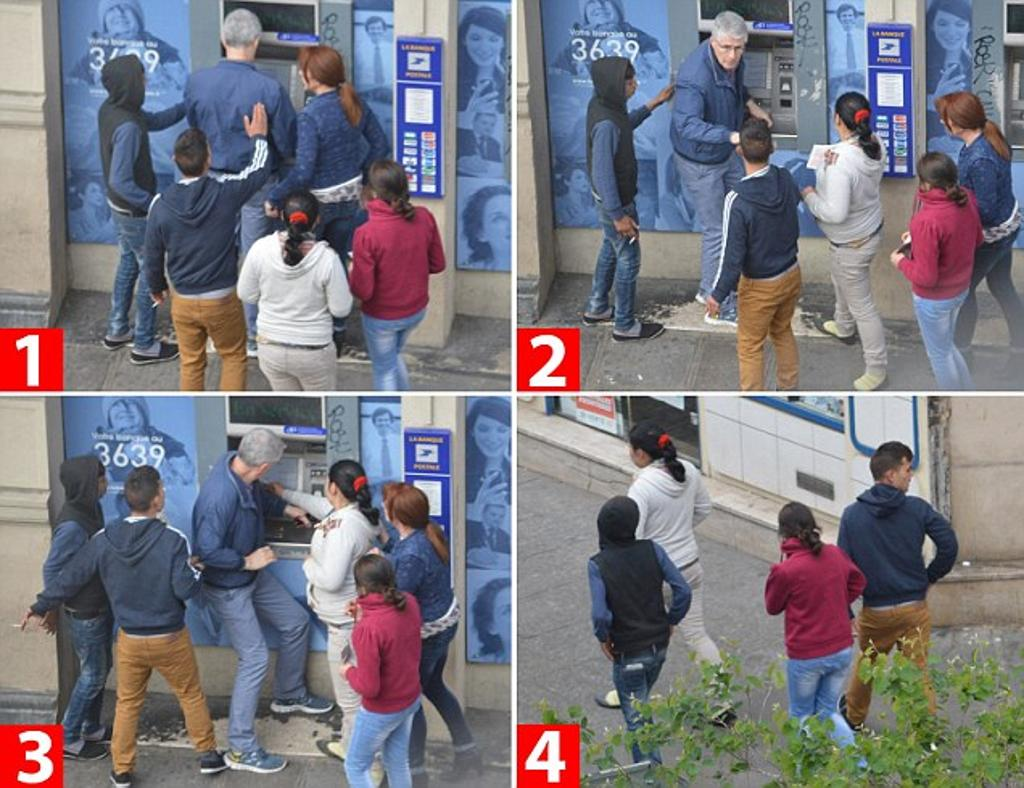face: (484, 194, 513, 259), (474, 412, 506, 457), (468, 25, 502, 64), (493, 589, 513, 644), (717, 32, 744, 69), (104, 6, 138, 35), (936, 16, 966, 47), (111, 399, 139, 428), (584, 1, 616, 26), (896, 457, 912, 490), (616, 74, 636, 99), (482, 504, 503, 527), (87, 473, 106, 497), (628, 441, 644, 466), (477, 114, 495, 136), (571, 170, 589, 192), (940, 113, 957, 135), (149, 486, 164, 510), (85, 184, 102, 204), (375, 415, 390, 433), (368, 22, 382, 39)
